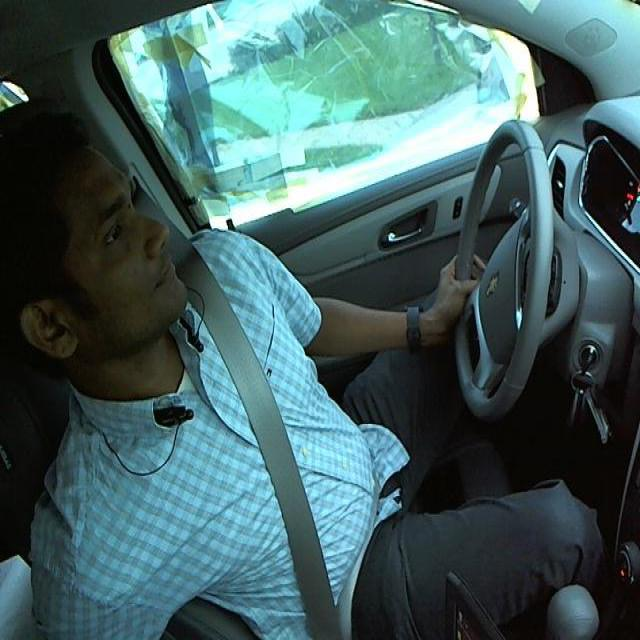seatbelt: (183, 297, 374, 636)
